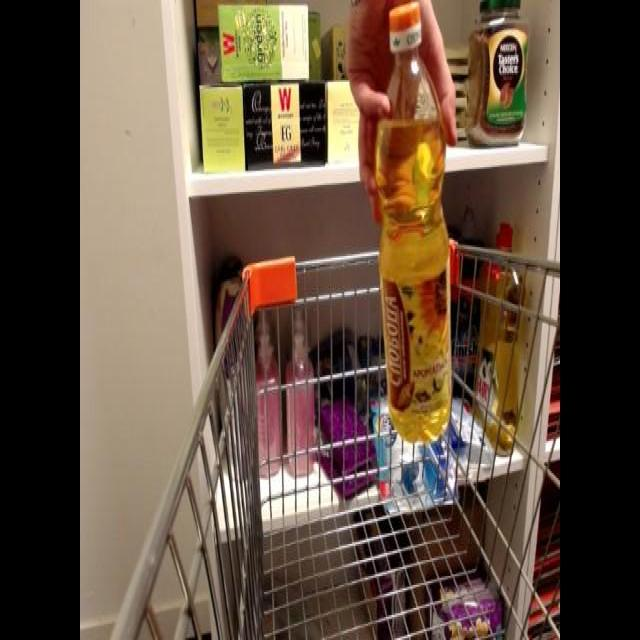Oil: (366, 0, 466, 452)
